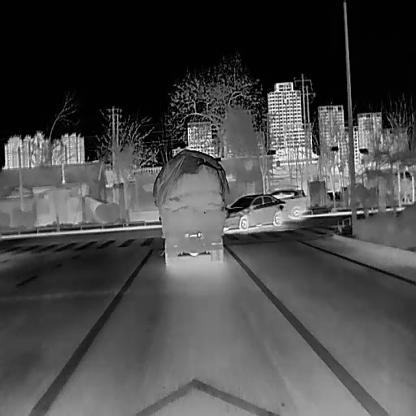car: (224, 192, 284, 230), (269, 188, 307, 219)
truck: (153, 147, 229, 265), (309, 179, 326, 208)
